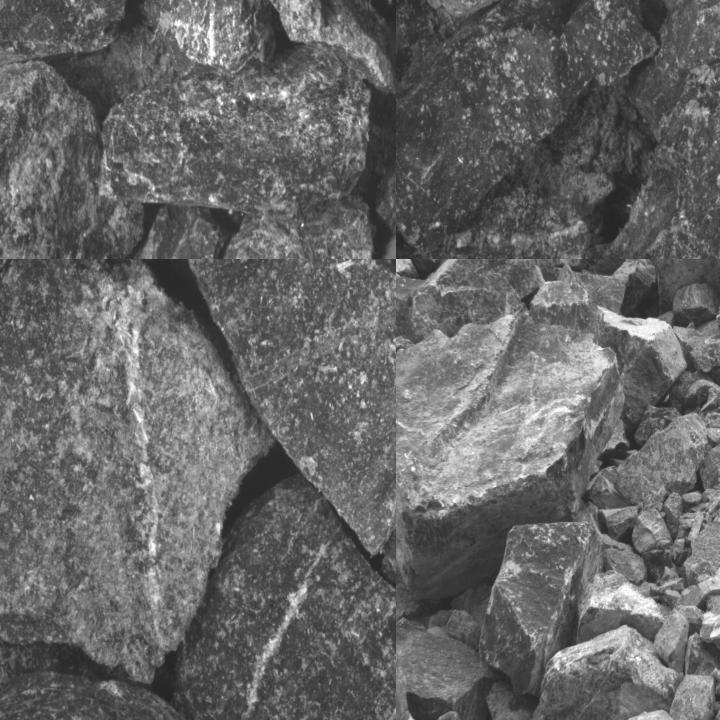stone: (0, 259, 275, 682), (396, 313, 630, 596), (187, 259, 395, 555), (169, 474, 395, 719), (396, 0, 593, 251), (99, 43, 371, 213), (551, 0, 719, 258), (0, 58, 146, 258), (480, 521, 604, 699), (0, 0, 133, 144), (514, 623, 683, 719), (244, 0, 395, 94), (396, 186, 586, 258), (396, 259, 544, 344), (588, 307, 686, 433), (396, 615, 495, 719), (139, 0, 276, 72), (0, 674, 199, 719), (616, 410, 706, 509), (564, 0, 656, 83), (528, 264, 624, 330), (396, 495, 421, 639), (655, 259, 719, 314), (683, 503, 719, 587), (611, 259, 656, 317), (654, 612, 689, 674), (670, 674, 717, 719), (672, 283, 719, 327), (634, 404, 682, 446), (674, 576, 719, 611), (685, 631, 719, 677), (699, 602, 719, 663), (591, 259, 651, 275), (596, 708, 683, 719), (396, 259, 439, 278), (396, 259, 421, 279)
